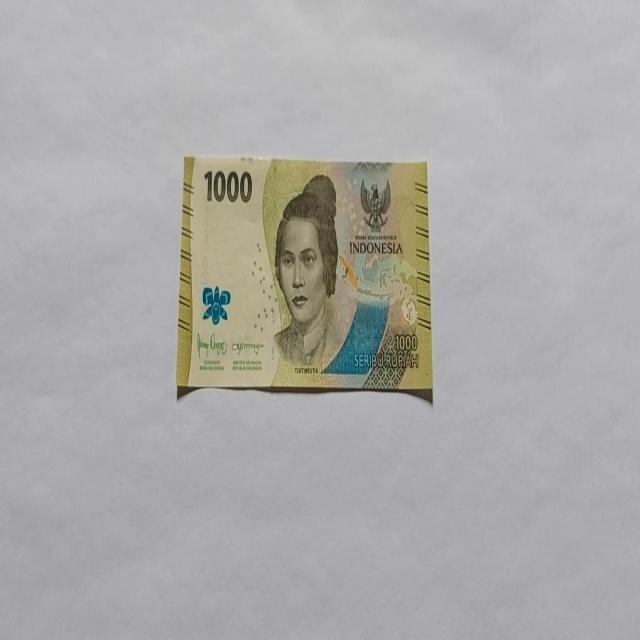seribu rupiah kertas: (175, 154, 432, 402)
